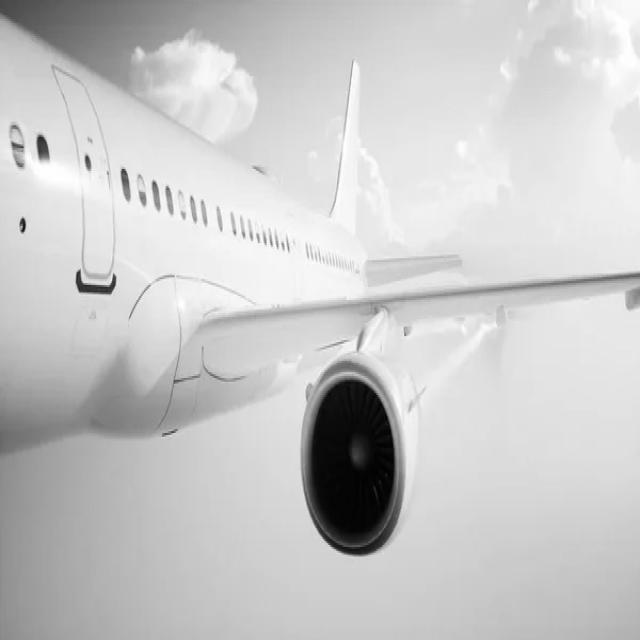Aircraft: (1, 34, 523, 563)
